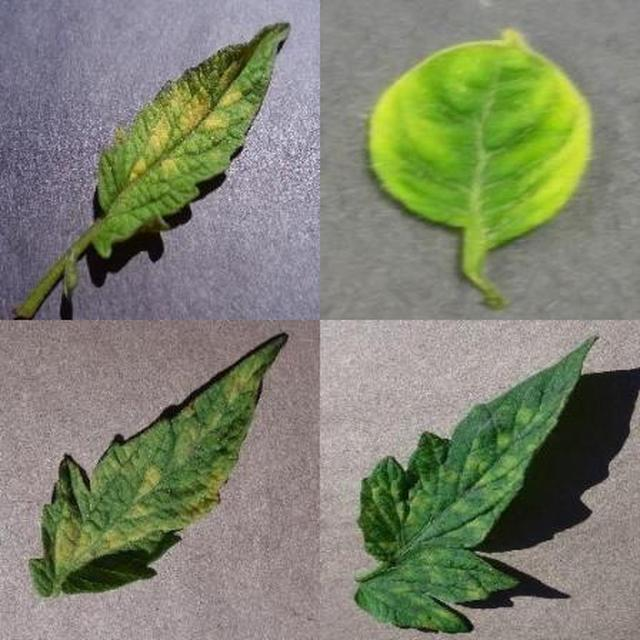Leaf Mold: (229, 198, 640, 640)
